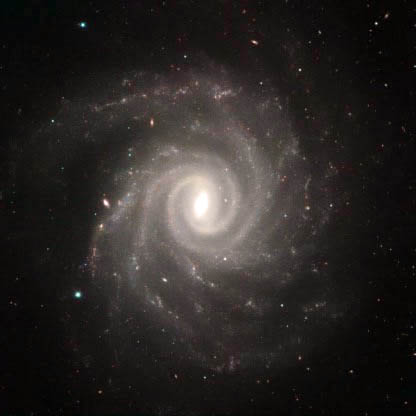NGC 1232: (42, 49, 342, 379)
